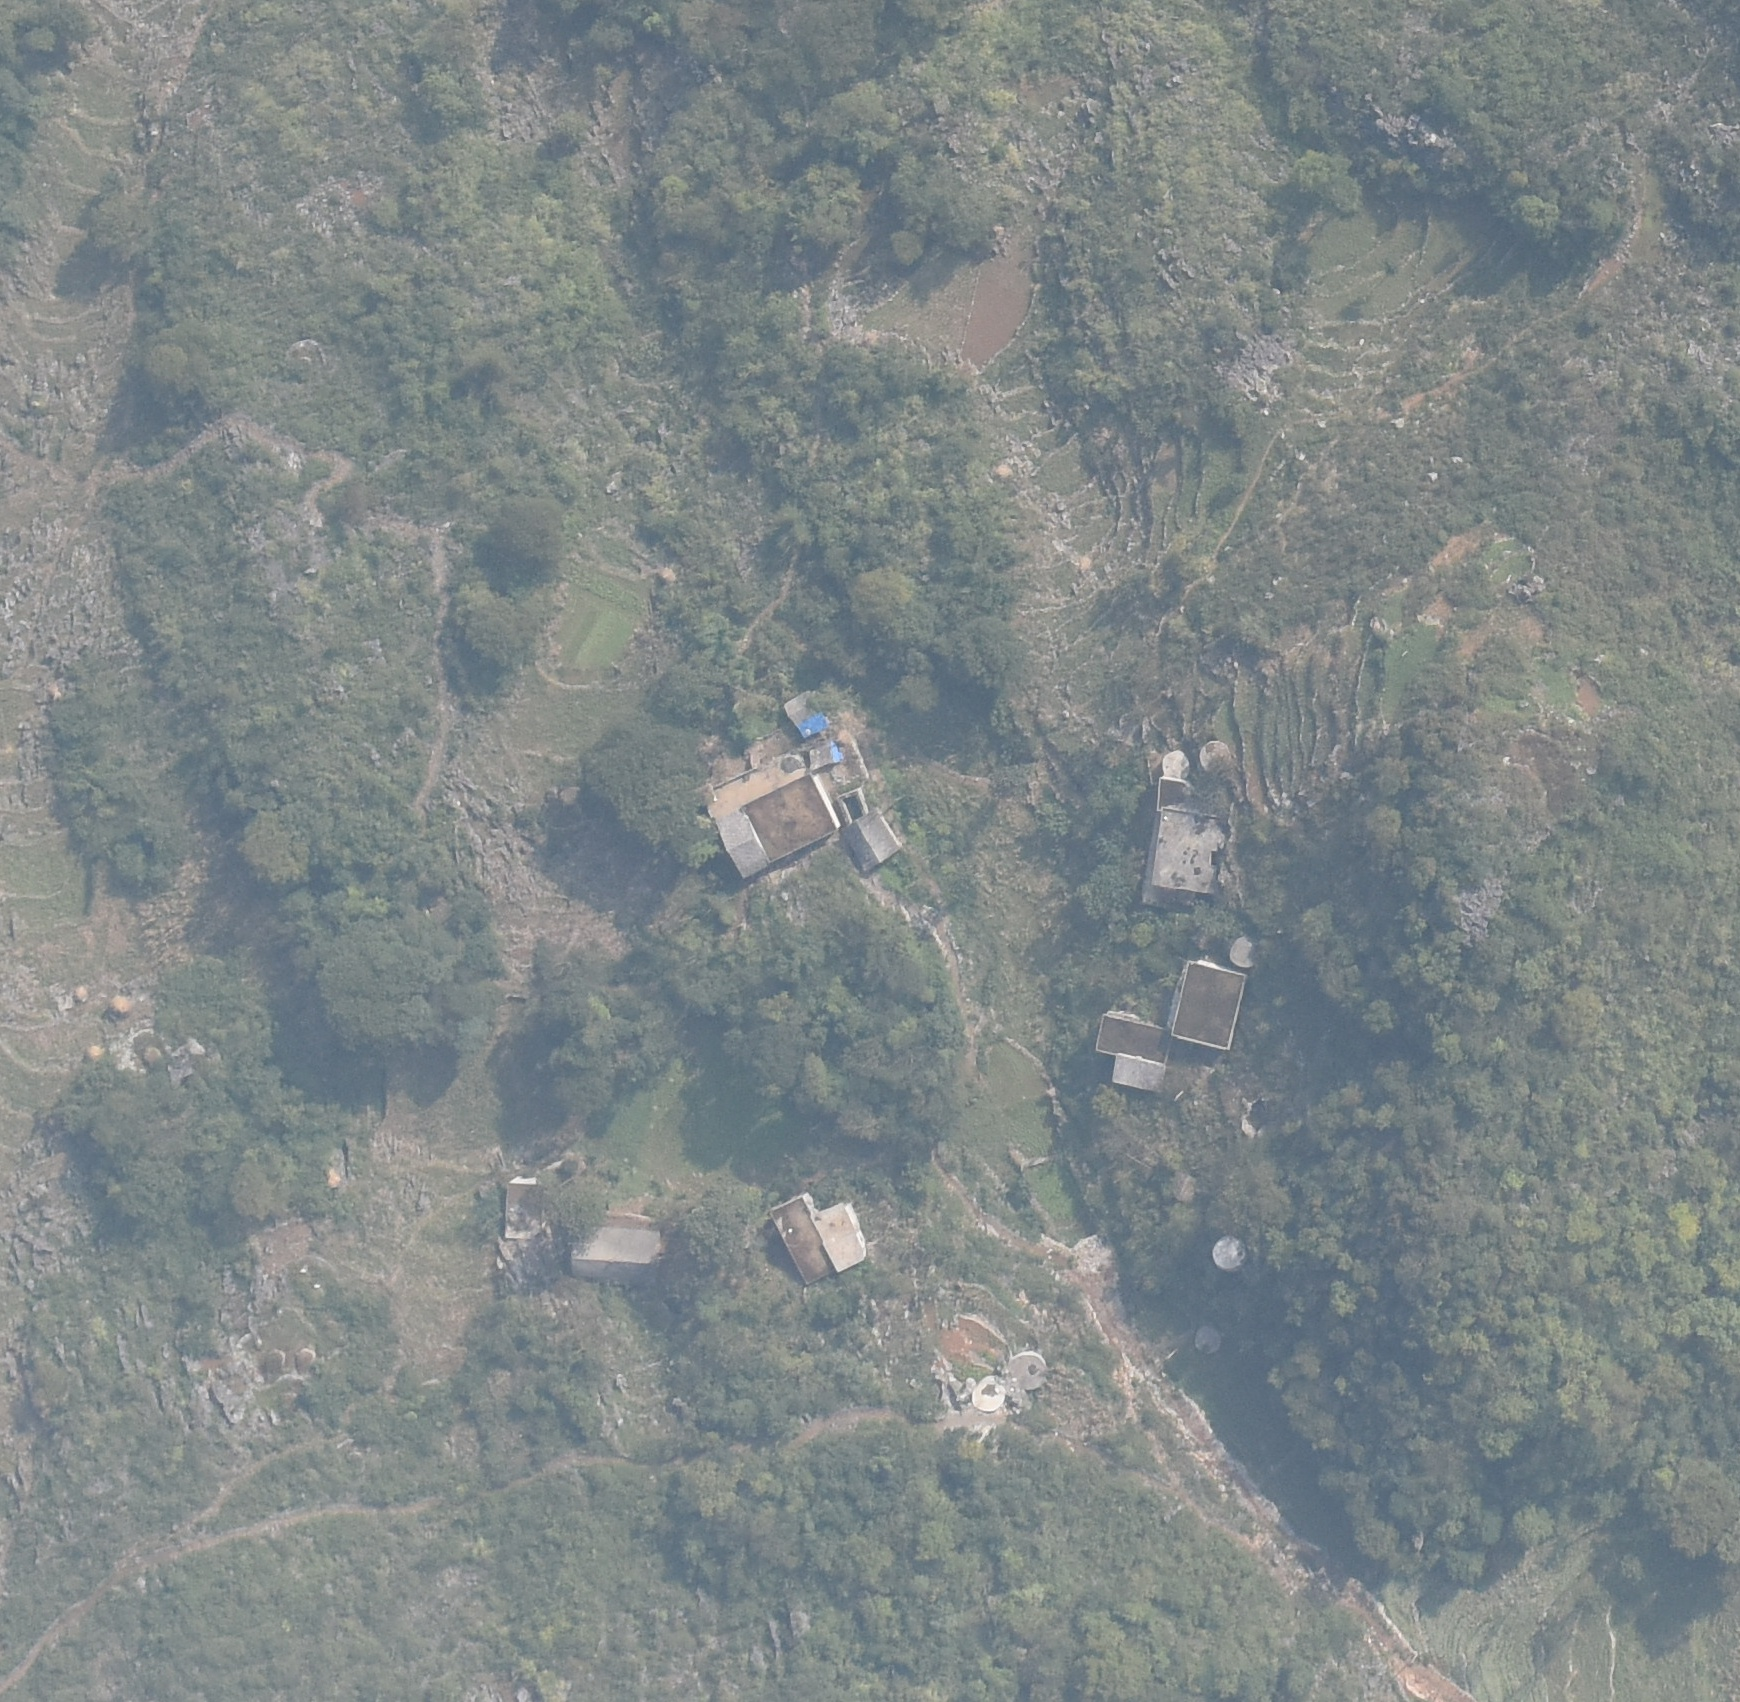building: (703, 770, 839, 886), (766, 1189, 874, 1287), (573, 1201, 673, 1289), (1145, 806, 1235, 899), (1166, 959, 1252, 1050), (1095, 1006, 1175, 1099), (839, 805, 908, 875), (499, 1176, 557, 1241), (778, 689, 839, 739)
well: (1003, 1352, 1046, 1392), (970, 1375, 1007, 1412), (1213, 1234, 1248, 1273), (1191, 1323, 1227, 1356), (1198, 740, 1231, 773), (1229, 937, 1264, 967), (1160, 750, 1191, 782)
